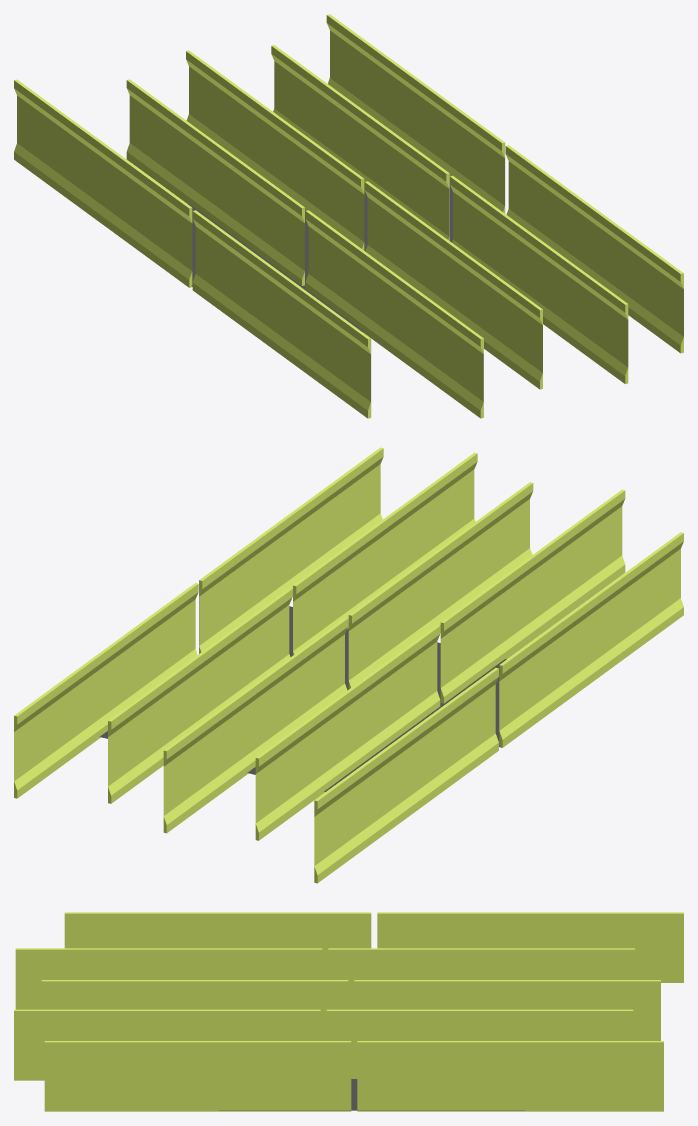
The model's file is Narrow_gap.dae.
3 renders of one model, top to bottom at view 1: azimuth 30°, elevation 25°; view 2: azimuth 150°, elevation 25°; view 3: azimuth 270°, elevation 25°, orthographic. The views are drawn at different scales.
Visible parts, largest first — view 1: node_32a40533_e3c2_41e9_80c8_9dda2f65d8ab_mesh4, node_32a40533_e3c2_41e9_80c8_9dda2f65d8ab_mesh9, node_32a40533_e3c2_41e9_80c8_9dda2f65d8ab_mesh3, node_32a40533_e3c2_41e9_80c8_9dda2f65d8ab_mesh6, node_32a40533_e3c2_41e9_80c8_9dda2f65d8ab_mesh2, node_32a40533_e3c2_41e9_80c8_9dda2f65d8ab_mesh1, node_32a40533_e3c2_41e9_80c8_9dda2f65d8ab_mesh0, node_32a40533_e3c2_41e9_80c8_9dda2f65d8ab_mesh10, node_32a40533_e3c2_41e9_80c8_9dda2f65d8ab_mesh5, node_32a40533_e3c2_41e9_80c8_9dda2f65d8ab_mesh7, node_32a40533_e3c2_41e9_80c8_9dda2f65d8ab_mesh8; view 2: node_32a40533_e3c2_41e9_80c8_9dda2f65d8ab_mesh4, node_32a40533_e3c2_41e9_80c8_9dda2f65d8ab_mesh9, node_32a40533_e3c2_41e9_80c8_9dda2f65d8ab_mesh3, node_32a40533_e3c2_41e9_80c8_9dda2f65d8ab_mesh6, node_32a40533_e3c2_41e9_80c8_9dda2f65d8ab_mesh10, node_32a40533_e3c2_41e9_80c8_9dda2f65d8ab_mesh5, node_32a40533_e3c2_41e9_80c8_9dda2f65d8ab_mesh2, node_32a40533_e3c2_41e9_80c8_9dda2f65d8ab_mesh7, node_32a40533_e3c2_41e9_80c8_9dda2f65d8ab_mesh0, node_32a40533_e3c2_41e9_80c8_9dda2f65d8ab_mesh1, node_32a40533_e3c2_41e9_80c8_9dda2f65d8ab_mesh8; view 3: node_32a40533_e3c2_41e9_80c8_9dda2f65d8ab_mesh0, node_32a40533_e3c2_41e9_80c8_9dda2f65d8ab_mesh5, node_32a40533_e3c2_41e9_80c8_9dda2f65d8ab_mesh9, node_32a40533_e3c2_41e9_80c8_9dda2f65d8ab_mesh4, node_32a40533_e3c2_41e9_80c8_9dda2f65d8ab_mesh1, node_32a40533_e3c2_41e9_80c8_9dda2f65d8ab_mesh3, node_32a40533_e3c2_41e9_80c8_9dda2f65d8ab_mesh7, node_32a40533_e3c2_41e9_80c8_9dda2f65d8ab_mesh10, node_32a40533_e3c2_41e9_80c8_9dda2f65d8ab_mesh6, node_32a40533_e3c2_41e9_80c8_9dda2f65d8ab_mesh2, node_32a40533_e3c2_41e9_80c8_9dda2f65d8ab_mesh8.
Part boxes in pixels (x1,y1,x2,y2): node_32a40533_e3c2_41e9_80c8_9dda2f65d8ab_mesh4: (192, 210, 371, 418); node_32a40533_e3c2_41e9_80c8_9dda2f65d8ab_mesh9: (14, 79, 192, 287); node_32a40533_e3c2_41e9_80c8_9dda2f65d8ab_mesh3: (305, 210, 483, 418); node_32a40533_e3c2_41e9_80c8_9dda2f65d8ab_mesh6: (126, 79, 304, 285); node_32a40533_e3c2_41e9_80c8_9dda2f65d8ab_mesh2: (364, 181, 542, 389); node_32a40533_e3c2_41e9_80c8_9dda2f65d8ab_mesh1: (450, 176, 628, 383); node_32a40533_e3c2_41e9_80c8_9dda2f65d8ab_mesh0: (505, 145, 683, 353); node_32a40533_e3c2_41e9_80c8_9dda2f65d8ab_mesh10: (186, 50, 364, 250); node_32a40533_e3c2_41e9_80c8_9dda2f65d8ab_mesh5: (326, 14, 505, 213); node_32a40533_e3c2_41e9_80c8_9dda2f65d8ab_mesh7: (271, 45, 449, 240); node_32a40533_e3c2_41e9_80c8_9dda2f65d8ab_mesh8: (188, 183, 452, 332); node_32a40533_e3c2_41e9_80c8_9dda2f65d8ab_mesh4: (499, 532, 683, 747); node_32a40533_e3c2_41e9_80c8_9dda2f65d8ab_mesh9: (314, 667, 498, 883); node_32a40533_e3c2_41e9_80c8_9dda2f65d8ab_mesh3: (440, 489, 625, 703); node_32a40533_e3c2_41e9_80c8_9dda2f65d8ab_mesh6: (255, 625, 440, 840); node_32a40533_e3c2_41e9_80c8_9dda2f65d8ab_mesh10: (163, 617, 348, 833); node_32a40533_e3c2_41e9_80c8_9dda2f65d8ab_mesh5: (14, 583, 198, 798); node_32a40533_e3c2_41e9_80c8_9dda2f65d8ab_mesh2: (348, 482, 533, 689); node_32a40533_e3c2_41e9_80c8_9dda2f65d8ab_mesh7: (108, 588, 292, 803); node_32a40533_e3c2_41e9_80c8_9dda2f65d8ab_mesh0: (199, 447, 383, 653); node_32a40533_e3c2_41e9_80c8_9dda2f65d8ab_mesh1: (293, 452, 477, 655); node_32a40533_e3c2_41e9_80c8_9dda2f65d8ab_mesh8: (100, 606, 506, 791); node_32a40533_e3c2_41e9_80c8_9dda2f65d8ab_mesh0: (44, 1041, 351, 1111); node_32a40533_e3c2_41e9_80c8_9dda2f65d8ab_mesh5: (357, 1041, 663, 1111); node_32a40533_e3c2_41e9_80c8_9dda2f65d8ab_mesh9: (377, 912, 683, 982); node_32a40533_e3c2_41e9_80c8_9dda2f65d8ab_mesh4: (64, 912, 371, 979); node_32a40533_e3c2_41e9_80c8_9dda2f65d8ab_mesh1: (14, 1009, 320, 1080); node_32a40533_e3c2_41e9_80c8_9dda2f65d8ab_mesh3: (15, 948, 322, 1009); node_32a40533_e3c2_41e9_80c8_9dda2f65d8ab_mesh7: (326, 1009, 633, 1078); node_32a40533_e3c2_41e9_80c8_9dda2f65d8ab_mesh10: (354, 980, 660, 1040); node_32a40533_e3c2_41e9_80c8_9dda2f65d8ab_mesh6: (328, 948, 634, 1009); node_32a40533_e3c2_41e9_80c8_9dda2f65d8ab_mesh2: (41, 980, 348, 1040); node_32a40533_e3c2_41e9_80c8_9dda2f65d8ab_mesh8: (219, 1079, 524, 1110).
Bounding box in the file's own units: 5030 × 1250 × 10925.
